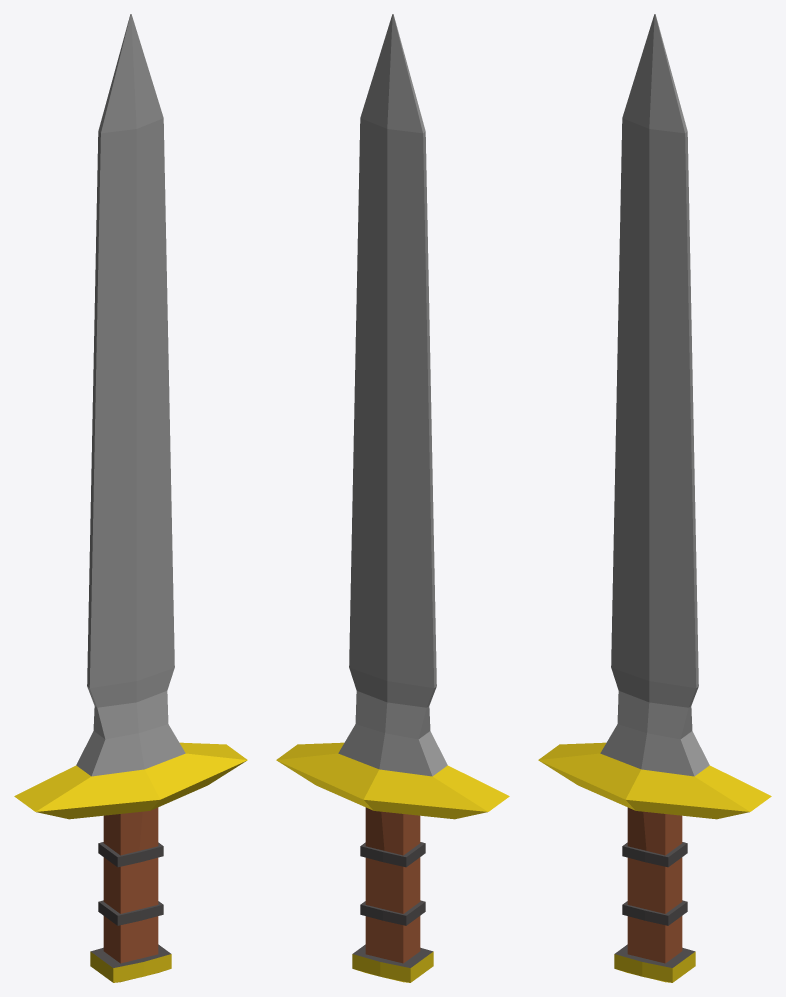
Rendered from sword.fbx.
The picture shows the model from 3 angles, left to right: view 1: azimuth 30°, elevation 25°; view 2: azimuth 150°, elevation 25°; view 3: azimuth 330°, elevation 25°; orthographic projection.
Parts seen in each view (by area): view 1: Sword; view 2: Sword; view 3: Sword.
Boxes of the visible parts, x1,y1,x2,y2 form: Sword: (14,14,247,982); Sword: (276,14,509,982); Sword: (538,14,771,982).
Size of the model in its own units: 65.72 by 283 by 31.5.
